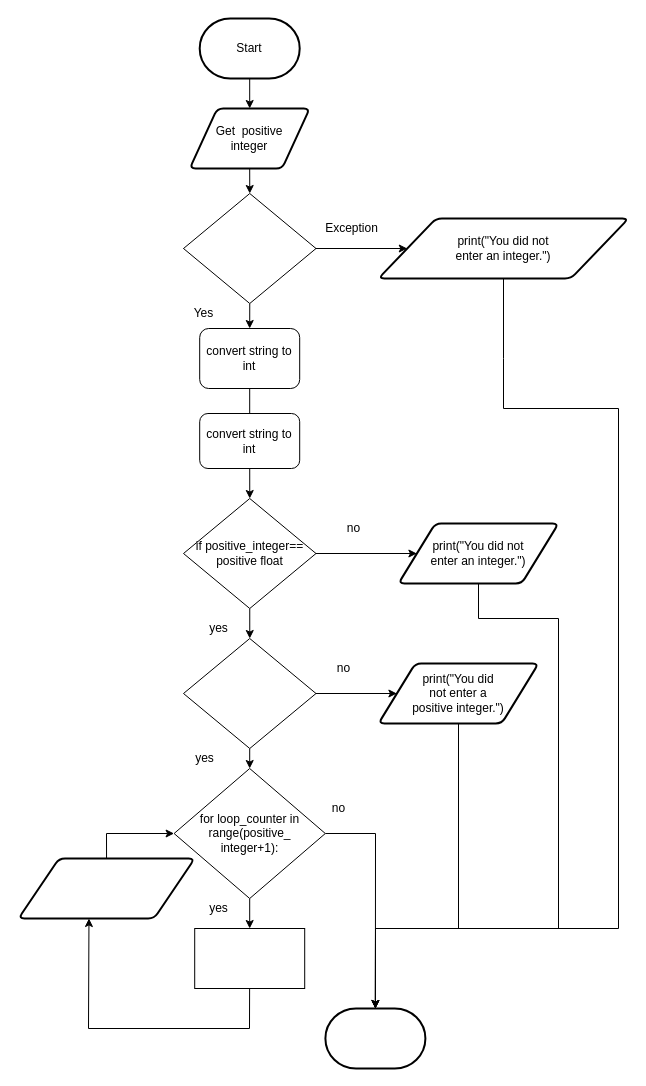
Image size: 646x1086. Some labels were removed from this diagram. The shapes that lost their labels are listed below. From the top down, each one's box as (x1, y1, x2, y2) in pixels, then its label:
(182, 192, 316, 304): try
(182, 638, 316, 748): if positive_integer >= 0:
(17, 857, 195, 919): print("{0}² = {1}".format(loop_counter, squared_number))
(194, 928, 305, 988): squared_number = loop_counter * loop_counter
(324, 1007, 426, 1069): Stop
